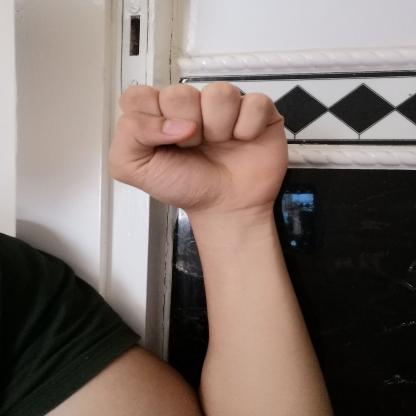SAD: (91, 70, 316, 223)
